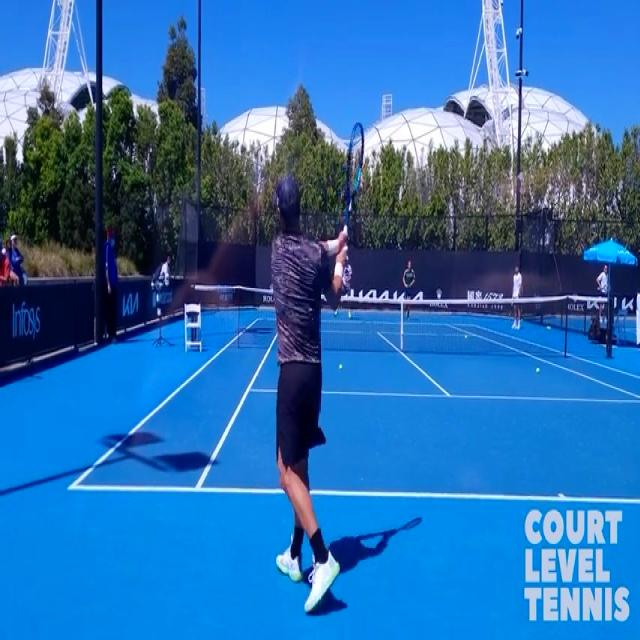backhand-finish: (247, 114, 374, 635)
